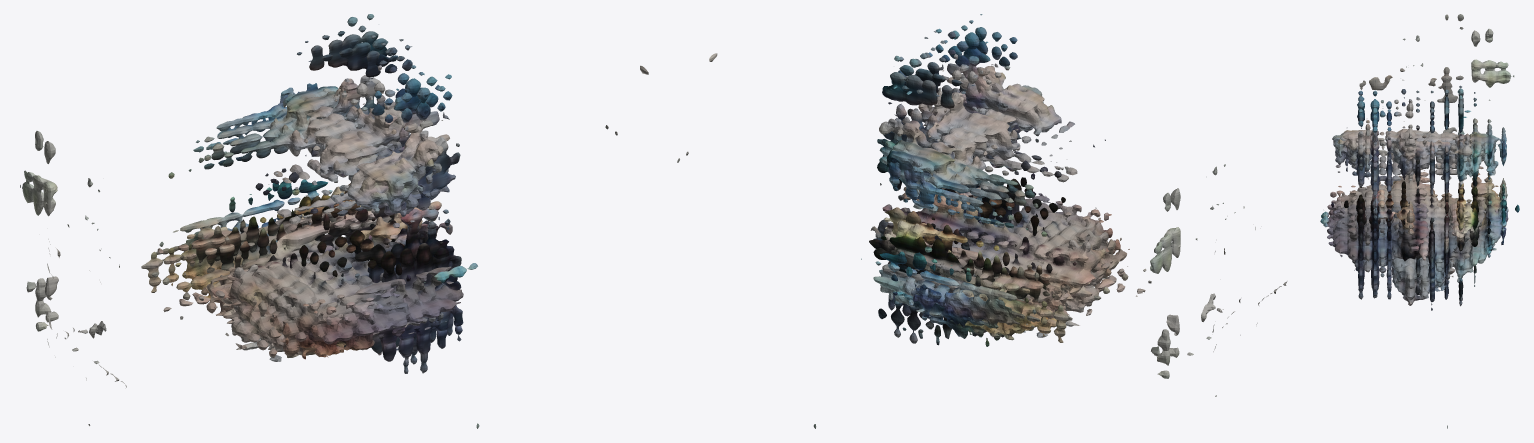
File: Babel_Full3D_Standing.glb
3 views of the same model, side by side, from view 1: azimuth 30°, elevation 25°; view 2: azimuth 150°, elevation 25°; view 3: azimuth 270°, elevation 25° (orthographic). The views are drawn at different scales.
Visible parts, largest first — view 1: geometry_0; view 2: geometry_0; view 3: geometry_0.
Part boxes in pixels (x1,y1,x2,y2): geometry_0: (20,14,648,428); geometry_0: (677,14,1287,428); geometry_0: (1320,14,1519,428).
Bounding box in the file's own units: 1.74 × 1.26 × 0.7573.
